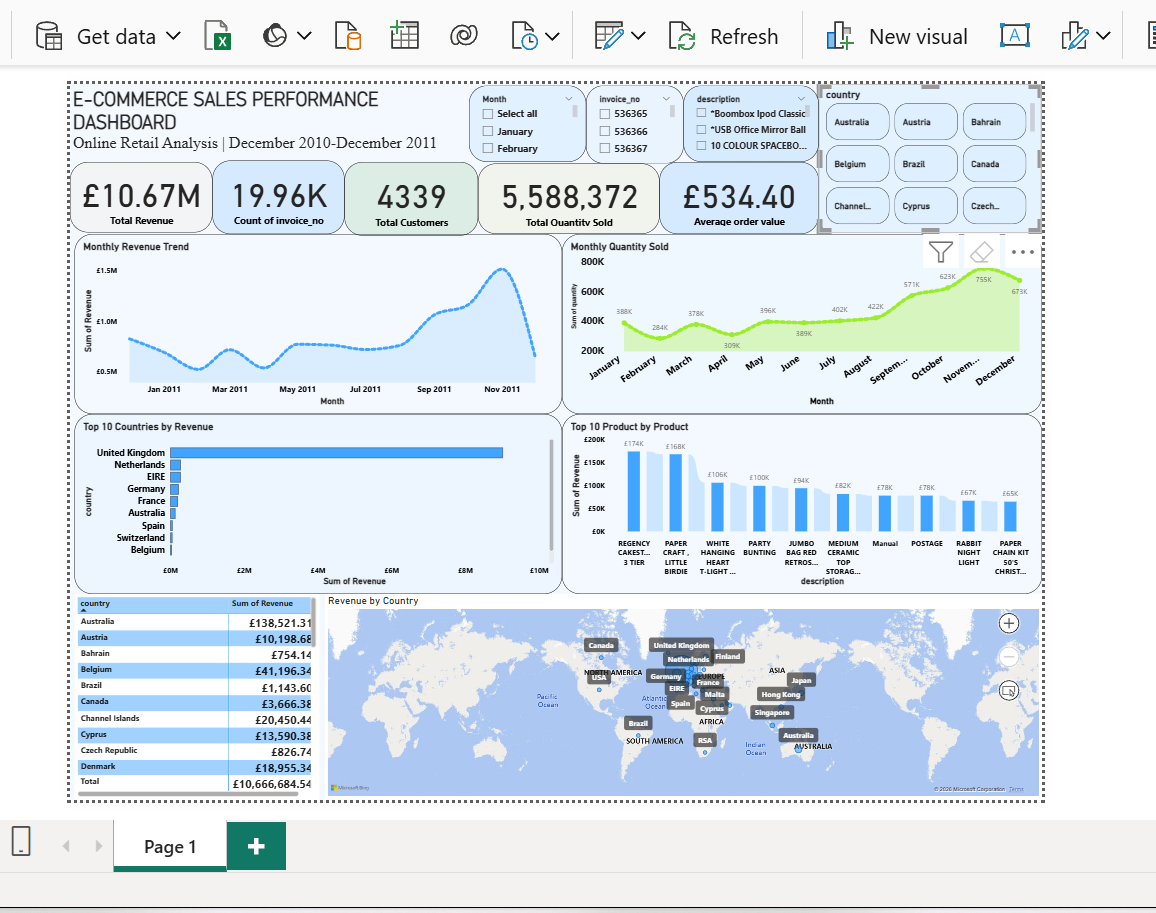

The dashboard page shown, as its layout file describes it:
{"tool":"powerbi","page":{"name":"Page 1","canvas":[1620,1193],"ordinal":0},"visuals":[{"type":"card","title":"Total Revenue","fields":{"Values":["Sum(clean_data online_retail.Revenue)"]},"box":[0,130,237.5,117.5],"z":0},{"type":"card","fields":{"Values":["Count(clean_data online_retail.invoice_no)"]},"box":[237.5,127.5,220,122.5],"z":1000},{"type":"card","fields":{"Values":["Count(clean_data online_retail.customer_id)"]},"box":[457.5,130,222.5,122.5],"z":2000},{"type":"card","fields":{"Values":["clean_data online_retail.Average_order_value"]},"box":[982.5,130,265,120],"z":3000},{"type":"areaChart","title":"Monthly Revenue Trend","fields":{"Category":["clean_data online_retail.Month"],"Y":["Sum(clean_data online_retail.Revenue)"]},"box":[7.5,250,812.5,300],"z":4000},{"type":"columnChart","title":"Top 10 Product by Product","fields":{"Category":["clean_data online_retail.description"],"Y":["Sum(clean_data online_retail.Revenue)"]},"box":[820,550,800,300],"z":5000},{"type":"map","title":" Revenue by Country","fields":{"Category":["clean_data online_retail.country"],"Size":["Sum(clean_data online_retail.Revenue)"]},"box":[425,850,1195,342.5],"z":6000},{"type":"areaChart","title":"Monthly Quantity Sold","fields":{"Category":["clean_data online_retail.Month.Variation.Date Hierarchy.Month"],"Y":["Sum(clean_data online_retail.quantity)"]},"box":[820,250,800,300],"z":7000},{"type":"clusteredBarChart","title":"Top 10 Countries by Revenue","fields":{"Category":["clean_data online_retail.country"],"Y":["Sum(clean_data online_retail.Revenue)"]},"box":[7.5,550,812.5,300],"z":8000},{"type":"card","fields":{"Values":["Sum(clean_data online_retail.quantity)"]},"box":[680,132.5,302.5,117.5],"z":9000},{"type":"textbox","box":[0,0,665,125],"z":9001},{"type":"advancedSlicerVisual","fields":{"Values":["clean_data online_retail.country"]},"box":[1247.5,0,372.5,247.5],"z":9002},{"type":"slicer","fields":{"Values":["clean_data online_retail.Month.Variation.Date Hierarchy.Month"]},"box":[665,2.5,195,127.5],"z":9003},{"type":"slicer","fields":{"Values":["clean_data online_retail.description"]},"box":[1022.5,2.5,225,127.5],"z":9004},{"type":"slicer","fields":{"Values":["clean_data online_retail.invoice_no"]},"box":[860,2.5,162.5,130],"z":9005},{"type":"pivotTable","fields":{"Rows":["clean_data online_retail.country"],"Values":["Sum(clean_data online_retail.Revenue)"]},"box":[7.5,850,407.5,342.5],"z":9006}]}

Visuals, with their boxes on the page's 1620x1193 design canvas (x1, y1, x2, y2). These are canvas units, not pixel positions in the 1156x913 screenshot, which may show the page scaled, cropped or inside an application window:
"Total Revenue" card: [left=0, top=130, right=238, bottom=248]
card - Count(clean_data online_retail.invoice_no): [left=238, top=128, right=458, bottom=250]
card - Count(clean_data online_retail.customer_id): [left=458, top=130, right=680, bottom=252]
card - clean_data online_retail.Average_order_value: [left=982, top=130, right=1248, bottom=250]
"Monthly Revenue Trend" areaChart: [left=8, top=250, right=820, bottom=550]
"Top 10 Product by Product" columnChart: [left=820, top=550, right=1620, bottom=850]
" Revenue by Country" map: [left=425, top=850, right=1620, bottom=1192]
"Monthly Quantity Sold" areaChart: [left=820, top=250, right=1620, bottom=550]
"Top 10 Countries by Revenue" clusteredBarChart: [left=8, top=550, right=820, bottom=850]
card - Sum(clean_data online_retail.quantity): [left=680, top=132, right=982, bottom=250]
textbox: [left=0, top=0, right=665, bottom=125]
advancedSlicerVisual - clean_data online_retail.country: [left=1248, top=0, right=1620, bottom=248]
slicer - clean_data online_retail.Month.Variation.Date Hierarchy.Month: [left=665, top=2, right=860, bottom=130]
slicer - clean_data online_retail.description: [left=1022, top=2, right=1248, bottom=130]
slicer - clean_data online_retail.invoice_no: [left=860, top=2, right=1022, bottom=132]
pivotTable - clean_data online_retail.country x Sum(clean_data online_retail.Revenue): [left=8, top=850, right=415, bottom=1192]
